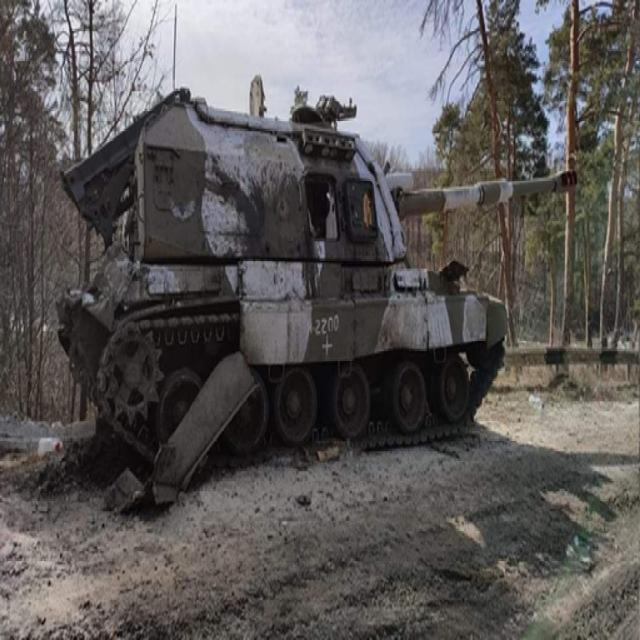ART: (74, 98, 584, 482)
